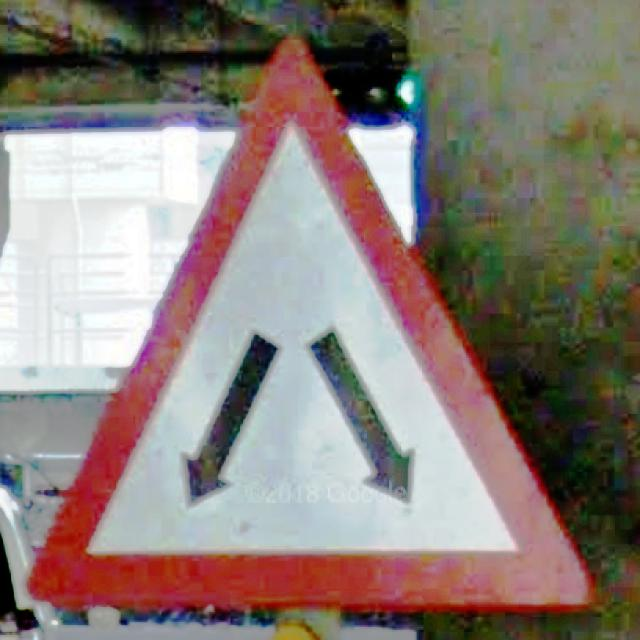diverge: (24, 40, 595, 612)
